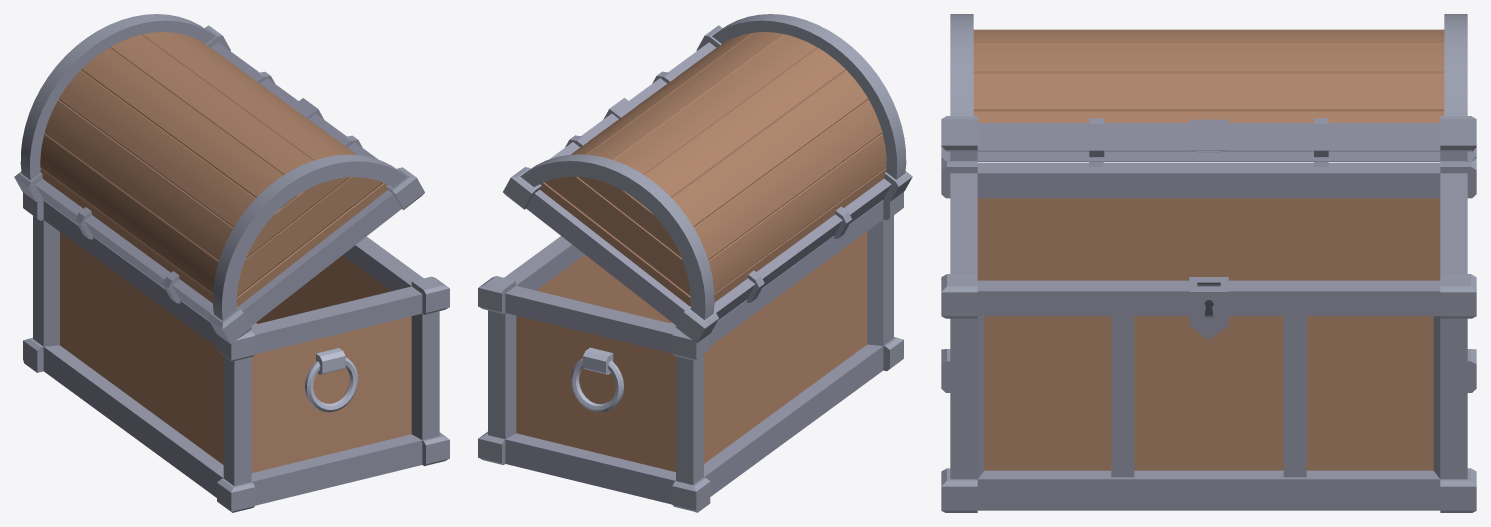
File: treasure_chest_A.fbx
3 renders of one model, left to right at view 1: azimuth 30°, elevation 25°; view 2: azimuth 150°, elevation 25°; view 3: azimuth 270°, elevation 25°, orthographic. The views are drawn at different scales.
Visible parts, largest first — view 1: treasure_chest_A_top, treasure_chest_A_frames, treasure_chest_A_sides_boards, treasure_chest_A_handle_ring_left, treasure_chest_A_handle_left; view 2: treasure_chest_A_top, treasure_chest_A_frames, treasure_chest_A_sides_boards, treasure_chest_A_handle_ring_right, treasure_chest_A_handle_right; view 3: treasure_chest_A_frames, treasure_chest_A_top, treasure_chest_A_sides_boards, treasure_chest_A_bars, treasure_chest_A_lock.
Part boxes in pixels (bbox=[...]): treasure_chest_A_top: bbox=[14, 14, 424, 343]; treasure_chest_A_frames: bbox=[23, 192, 449, 512]; treasure_chest_A_sides_boards: bbox=[60, 232, 411, 472]; treasure_chest_A_handle_ring_left: bbox=[305, 357, 358, 412]; treasure_chest_A_handle_left: bbox=[316, 348, 345, 374]; treasure_chest_A_top: bbox=[503, 14, 912, 343]; treasure_chest_A_frames: bbox=[478, 192, 903, 512]; treasure_chest_A_sides_boards: bbox=[516, 231, 867, 471]; treasure_chest_A_handle_ring_right: bbox=[571, 358, 623, 412]; treasure_chest_A_handle_right: bbox=[583, 347, 613, 374]; treasure_chest_A_frames: bbox=[941, 158, 1476, 512]; treasure_chest_A_top: bbox=[941, 14, 1476, 166]; treasure_chest_A_sides_boards: bbox=[984, 316, 1433, 470]; treasure_chest_A_bars: bbox=[1111, 316, 1306, 477]; treasure_chest_A_lock: bbox=[1189, 277, 1228, 339].
Bounding box in the file's own units: 80.77 × 109 × 128.
